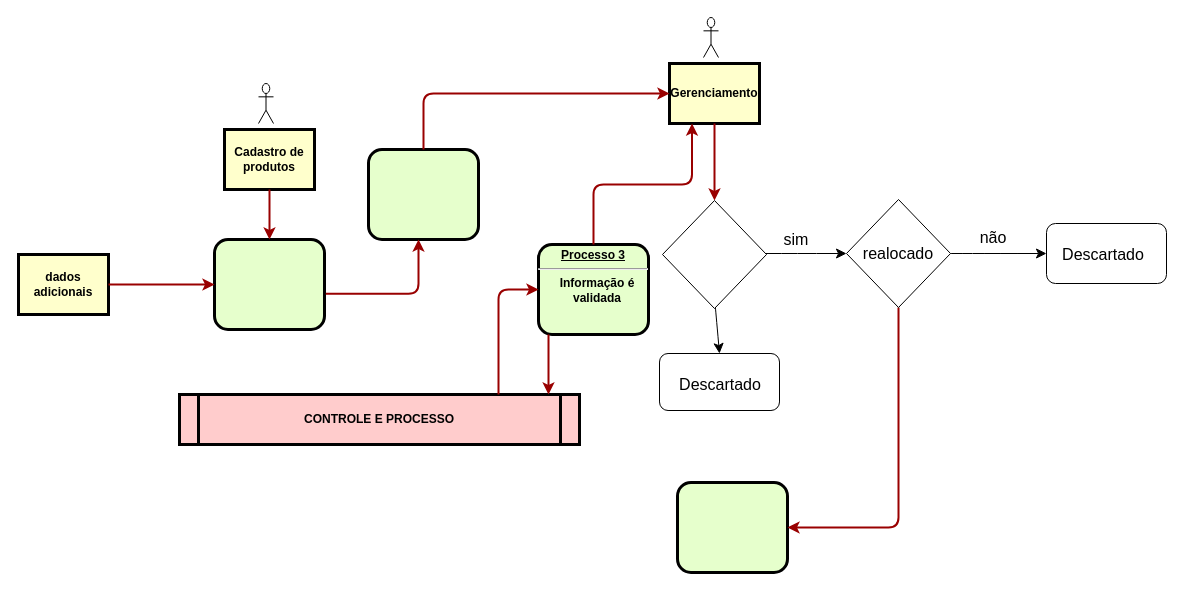
The diagram is 1184 pixels wide and 591 high, and some of its shapes have lost their labels. Here are the shapes that lost their labels. From the top down, the centre of each, then its label:
point 423,194: Processo 2 Usuario recebe resultado
point 714,254: manutenção
point 269,284: Processo 1 Tensorflow, faz calculo e previsão
point 732,527: Processo 4 Em planejamento
